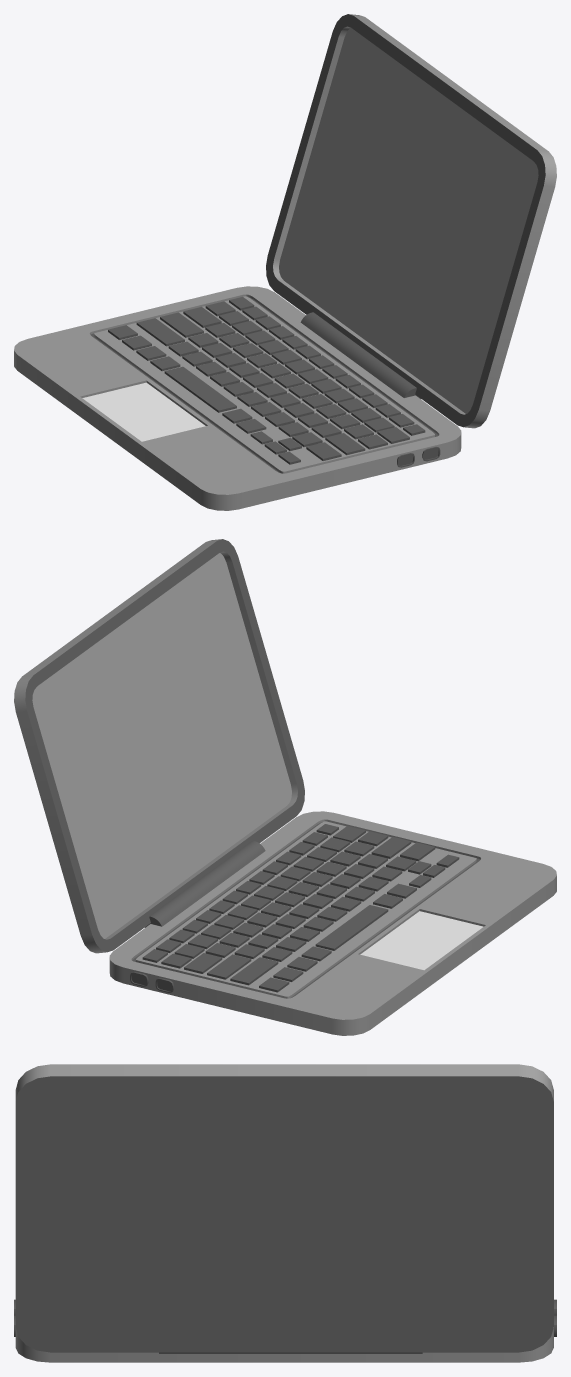
File: Laptop01.fbx
The picture shows the model from 3 angles, top to bottom: view 1: azimuth 30°, elevation 25°; view 2: azimuth 150°, elevation 25°; view 3: azimuth 270°, elevation 25°; orthographic projection. The views are drawn at different scales.
Parts seen in each view (by area): view 1: Laptop01; view 2: Laptop01; view 3: Laptop01.
Part boxes in pixels (box(x1,y1,x2,y2)): Laptop01: box(14, 14, 556, 510); Laptop01: box(14, 539, 556, 1035); Laptop01: box(14, 1064, 556, 1362).
Size of the model in its own units: 0.4053 by 0.4297 by 0.3122.
